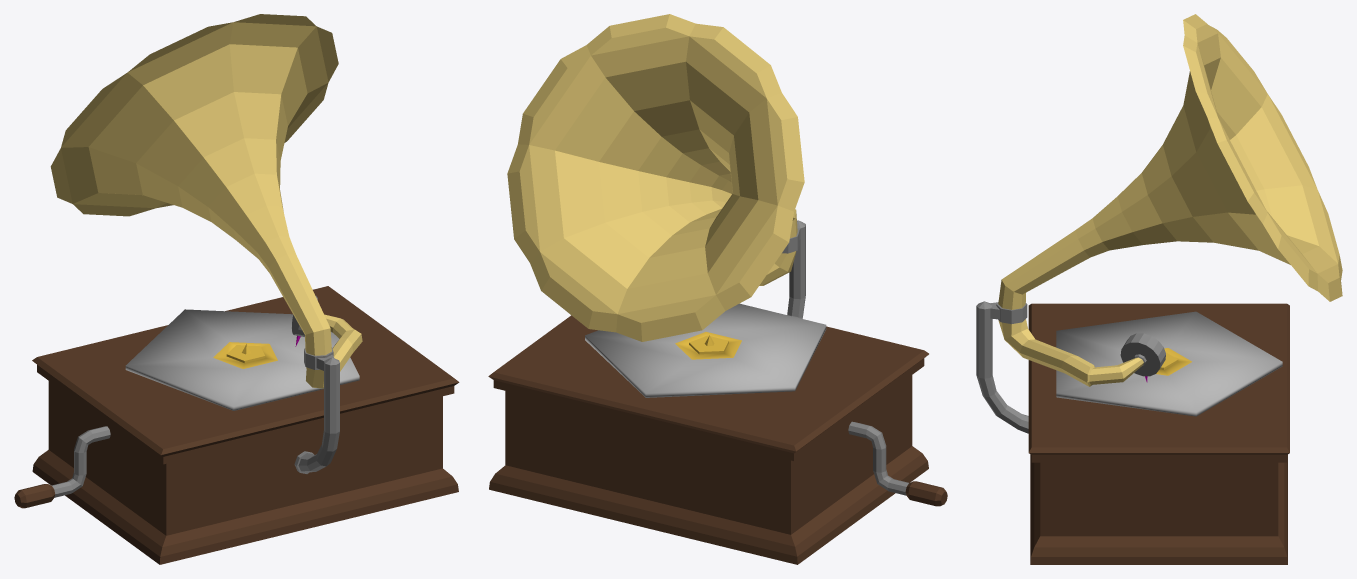
Rendered from APD_Player_PD_Large.fbx.
3 views of the same model, side by side, from view 1: azimuth 30°, elevation 25°; view 2: azimuth 150°, elevation 25°; view 3: azimuth 270°, elevation 25° (orthographic). The views are drawn at different scales.
Visible parts, largest first — view 1: Box, Horn, PD, Handle, Arm; view 2: Horn, Box, PD, Handle, Spindle; view 3: Box, Horn, PD, Arm.
Boxes of the visible parts, x1=… form: Box: x1=32, y1=286, x2=459, y2=564; Horn: x1=50, y1=14, x2=338, y2=355; PD: x1=125, y1=309, x2=359, y2=410; Handle: x1=14, y1=426, x2=110, y2=508; Arm: x1=292, y1=295, x2=362, y2=388; Horn: x1=507, y1=14, x2=804, y2=341; Box: x1=488, y1=220, x2=928, y2=564; PD: x1=585, y1=303, x2=826, y2=397; Handle: x1=848, y1=421, x2=947, y2=506; Spindle: x1=689, y1=335, x2=728, y2=354; Box: x1=976, y1=301, x2=1289, y2=564; Horn: x1=998, y1=14, x2=1342, y2=309; PD: x1=1056, y1=311, x2=1282, y2=416; Arm: x1=998, y1=319, x2=1165, y2=386.
Bounding box in the file's own units: 88.19 × 101 × 73.19.
